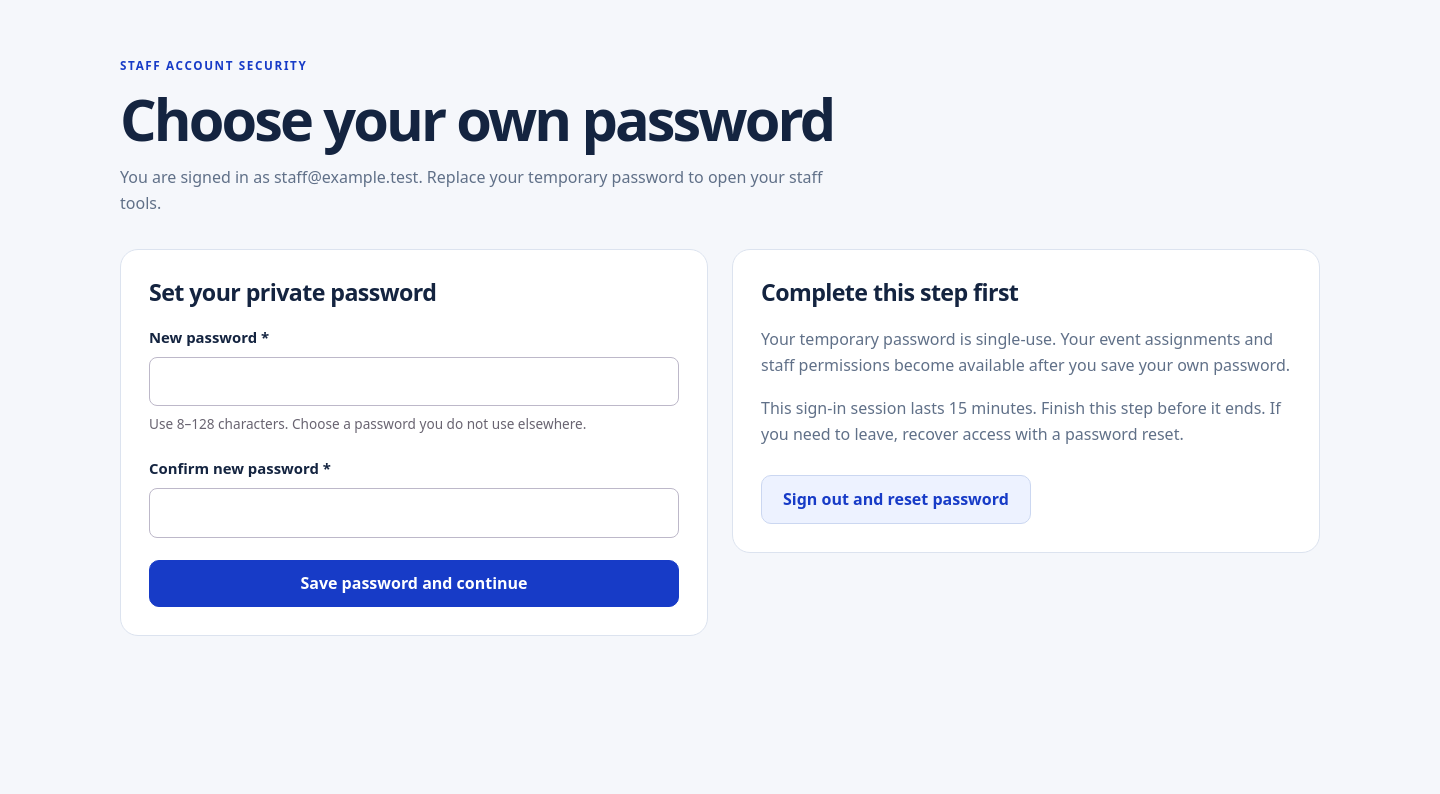
expired setup session clears typed credentials and offers recovery without reusing temporary password
Type "PrivateStaff!232" into the password field named "newPassword" at (414, 382), box [149,357,679,406]
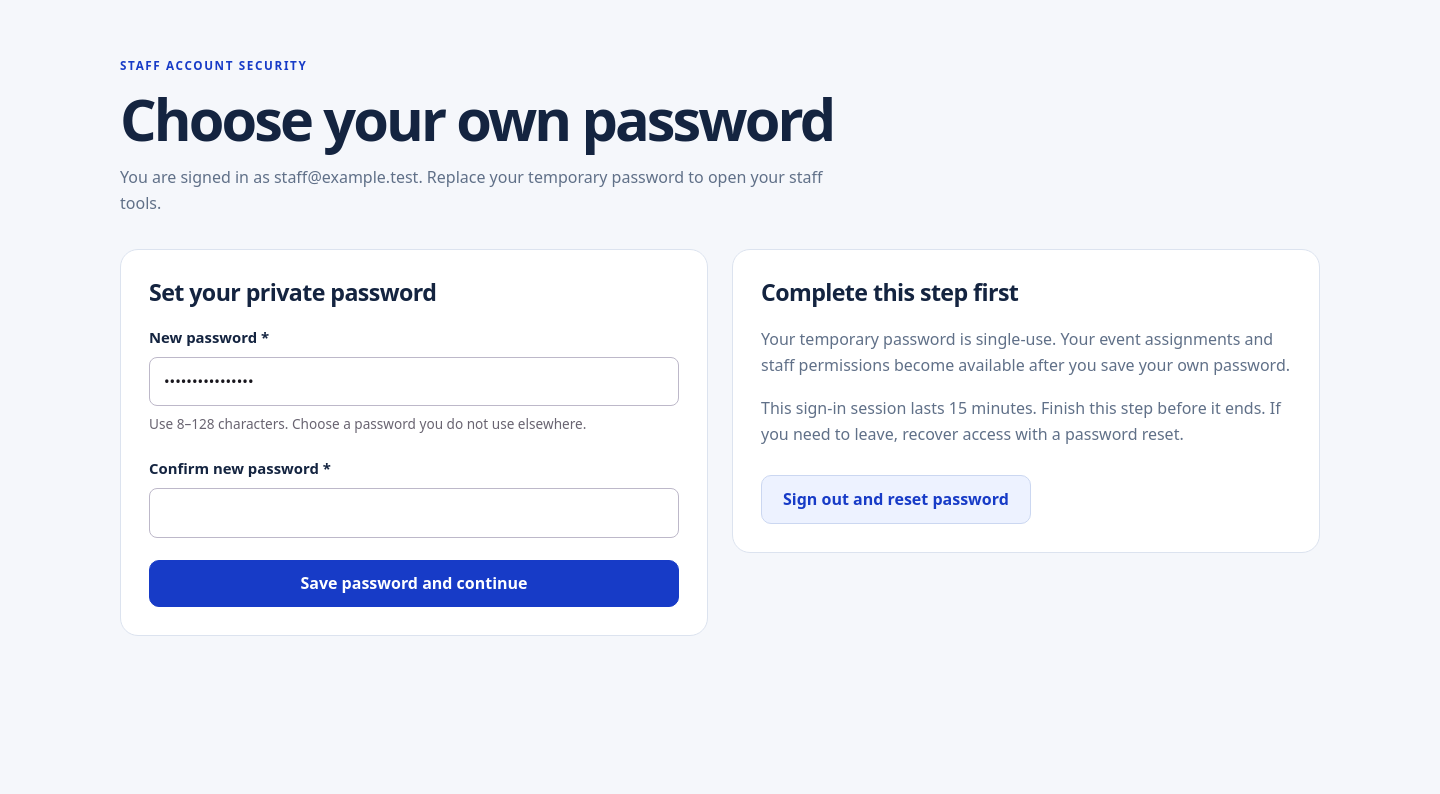
Type "PrivateStaff!232" into the password field labelled "Confirm new password *" at (414, 513), box [149,488,679,538]
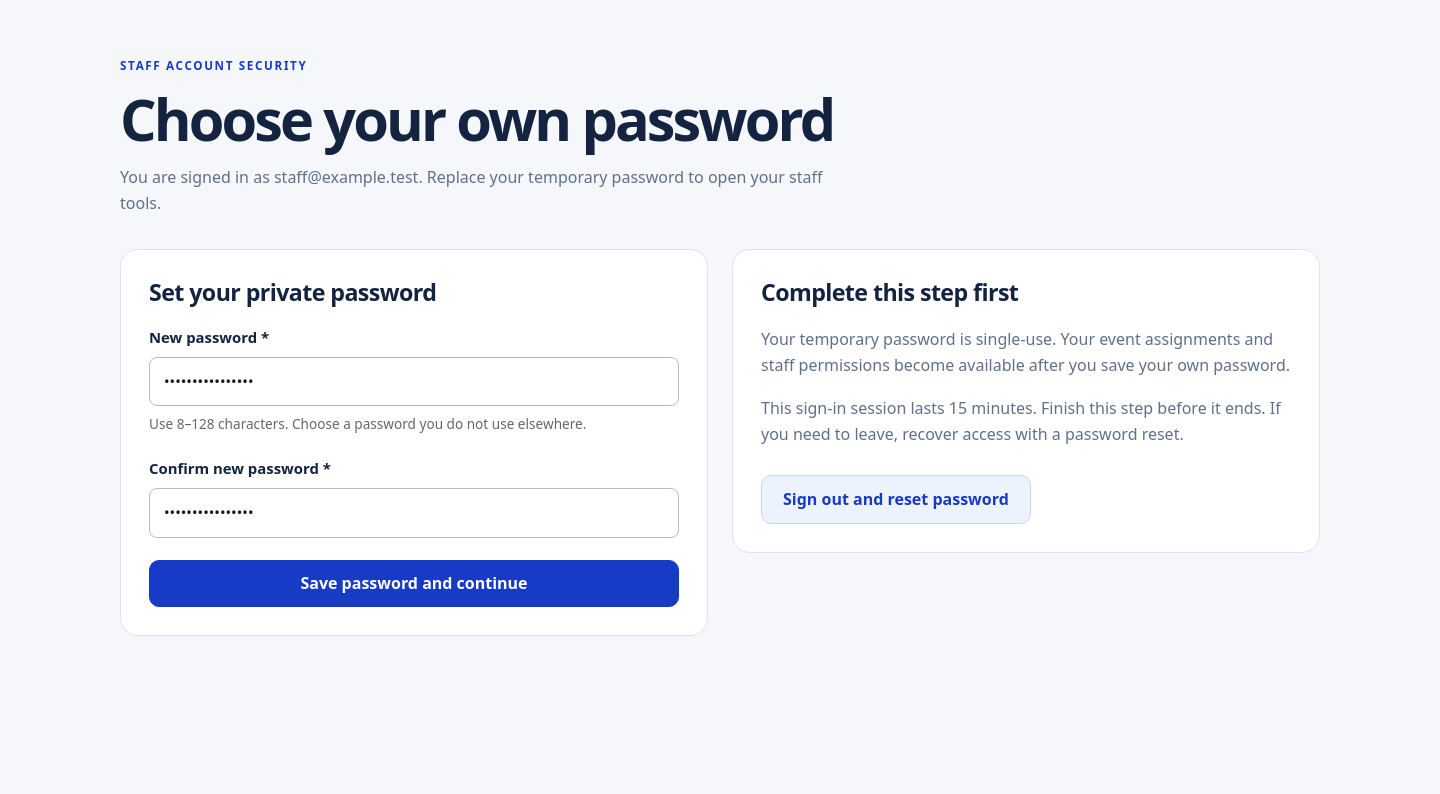
Submit the form, box [149,326,679,607]
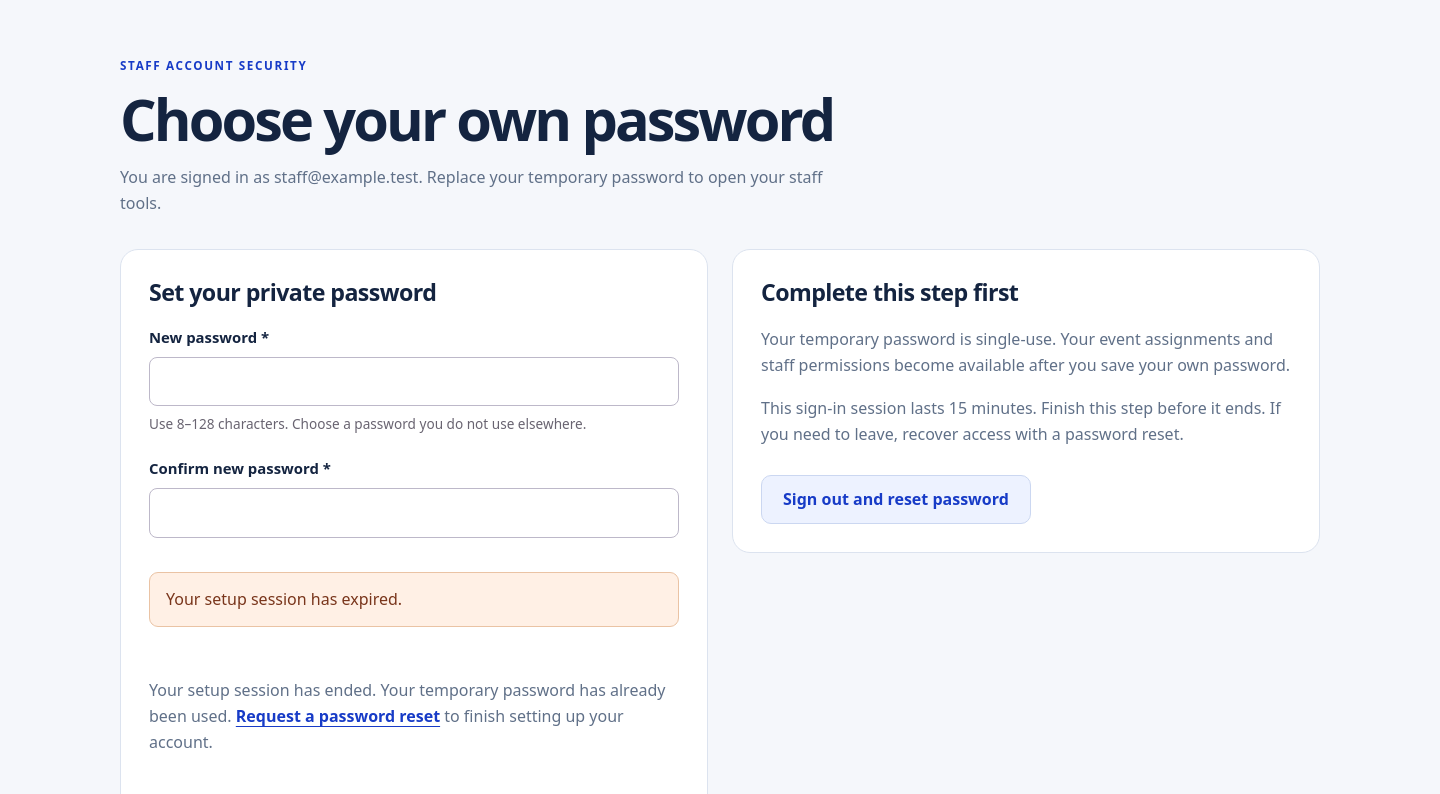
expect the password field named "newPassword" is empty: met, box [149,357,679,406]
expect the text "temporary password has already been used" is shown: met, box [149,678,665,727]
expect the link to "/forgot-password" is shown: met, box [236,705,440,727]
